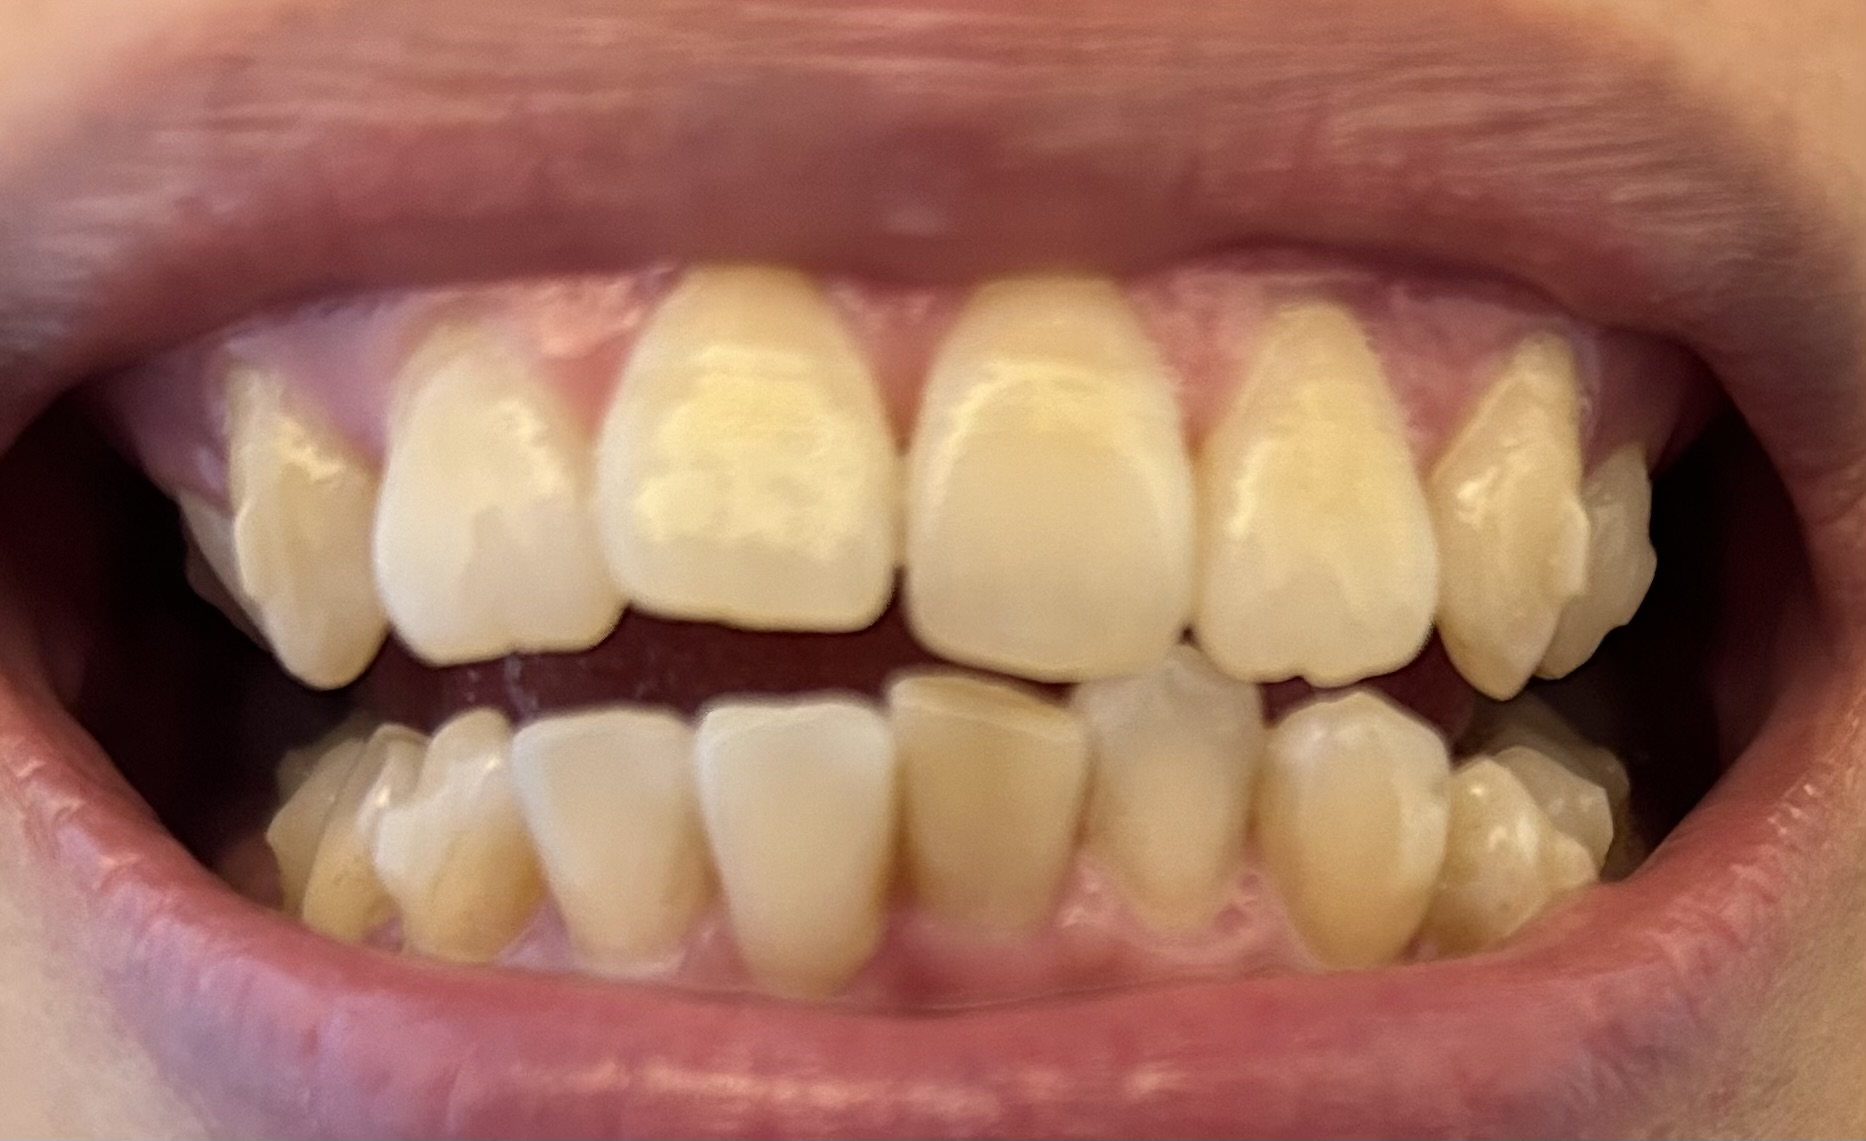teeth: (905, 280, 1197, 685), (596, 273, 892, 632), (1202, 305, 1439, 681), (380, 328, 622, 661), (1427, 333, 1591, 694), (696, 710, 893, 994), (1074, 650, 1260, 937), (1261, 692, 1453, 968), (520, 718, 714, 970), (231, 369, 383, 688), (896, 692, 1090, 936), (400, 710, 548, 957), (307, 732, 420, 941)
